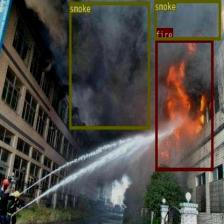fire: (155, 38, 213, 170)
smoke: (69, 1, 149, 129), (154, 0, 220, 39)
